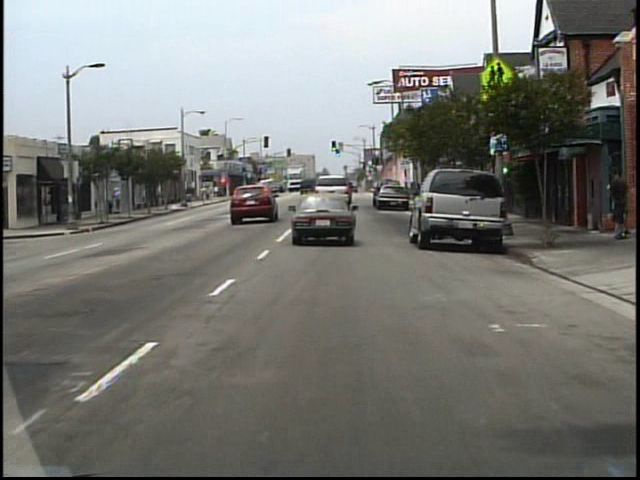person: (606, 167, 632, 239), (116, 186, 128, 214)
